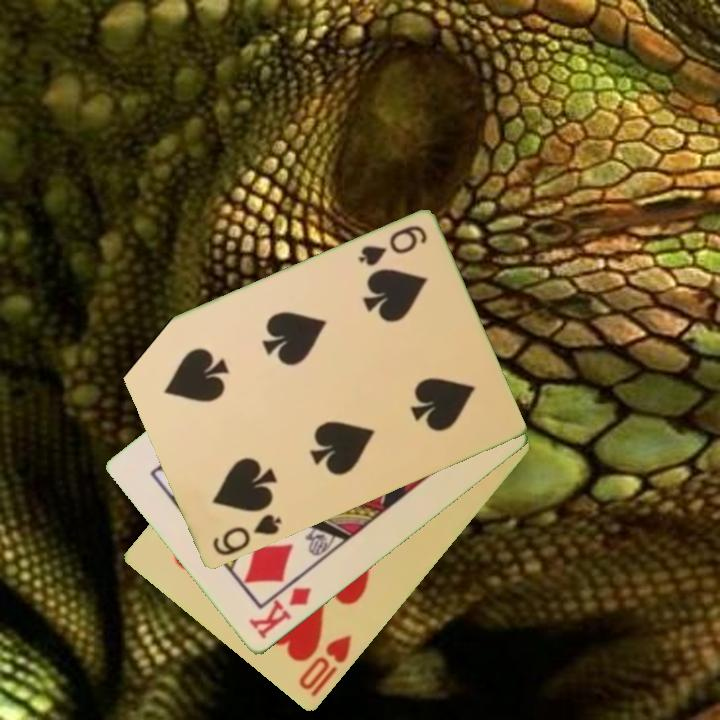10h: (295, 631, 355, 701)
6s: (208, 510, 285, 560), (355, 222, 430, 270)
Kd: (245, 584, 314, 643)
